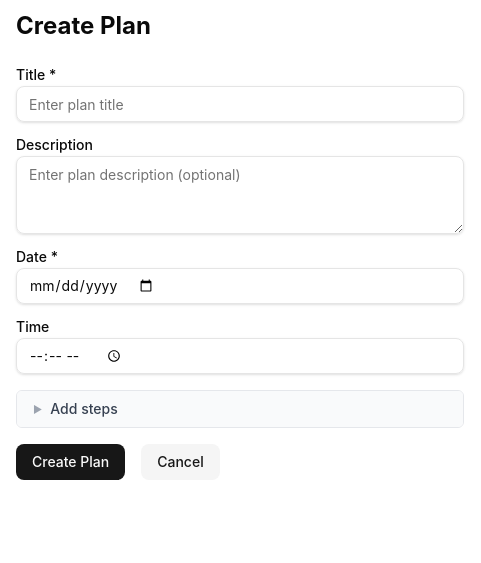
Test: PlanForm › shows validation error when title is empty
// Set empty title and submit
Clear the field labelled "Title *": (240, 104) [16,86,464,122]
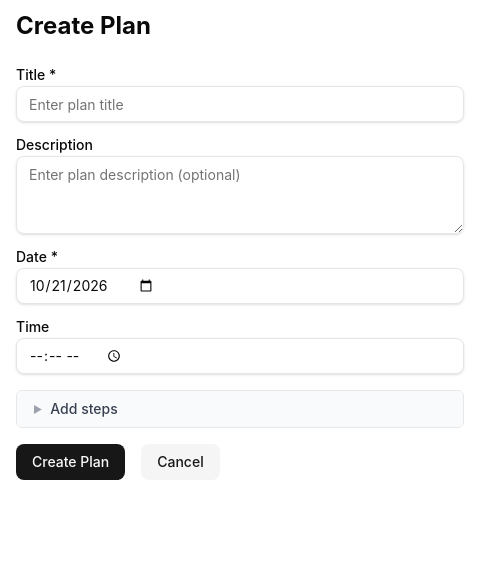
Submit the form
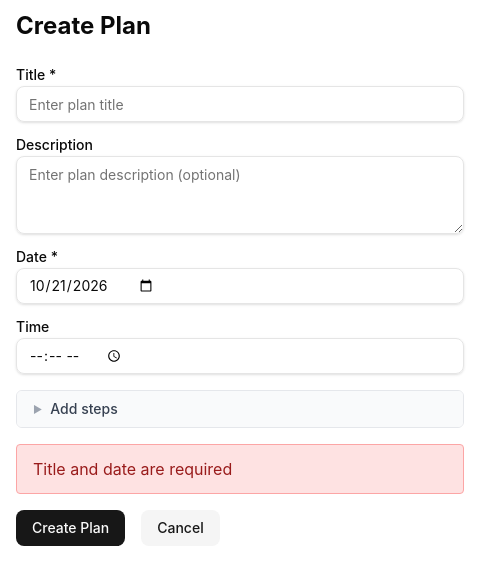
Check: the text "Title and date are required" is shown, box [33,459,232,479]
